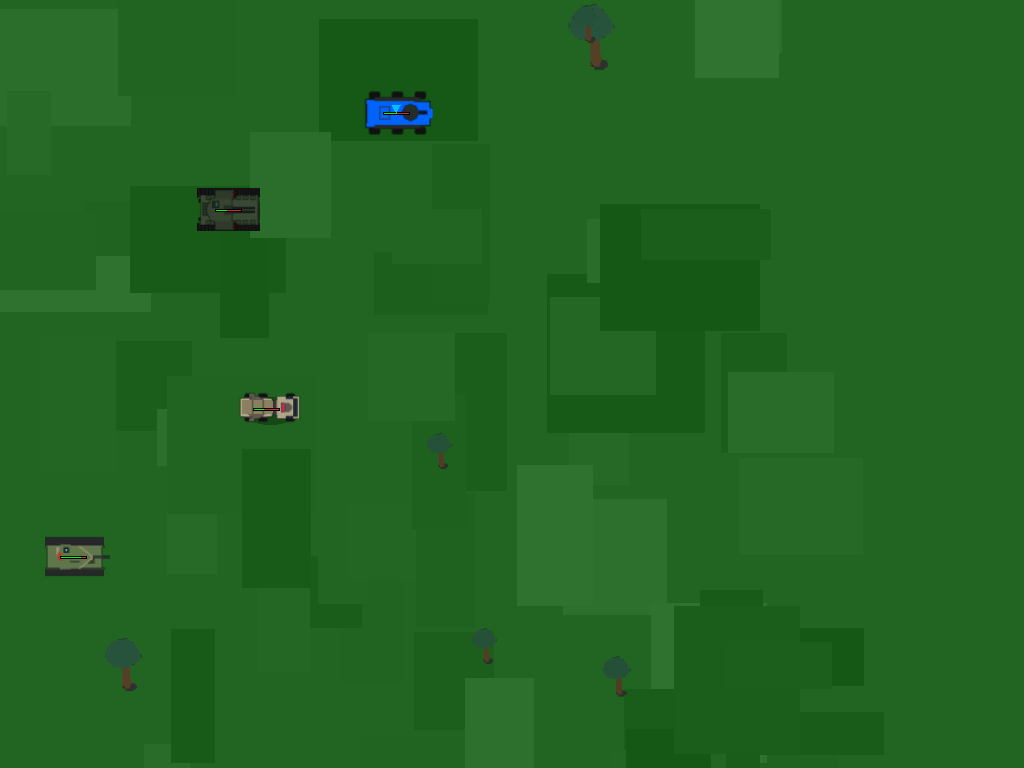APC_usa: (368, 83, 425, 140)
HIMARS: (238, 378, 295, 435)
M1A2_chn: (42, 524, 104, 586)
TerminatorIFV: (202, 182, 253, 233)
